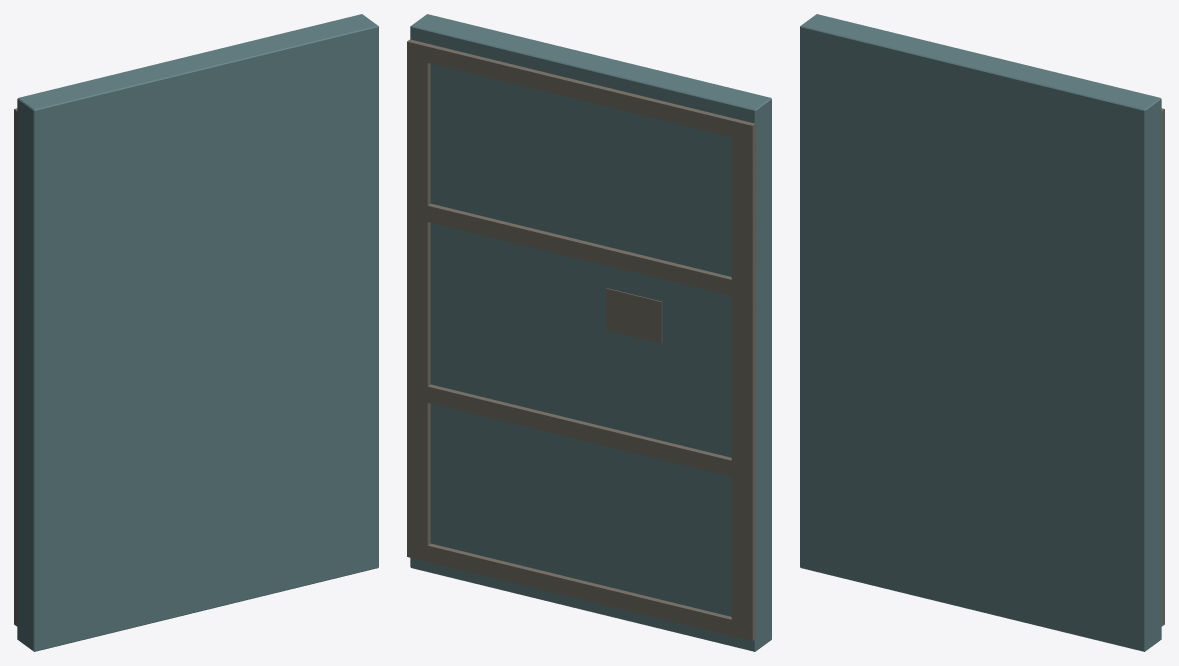
File: scrap_bunker_panel_2m.glb
3 views of the same model, side by side, from view 1: azimuth 30°, elevation 25°; view 2: azimuth 150°, elevation 25°; view 3: azimuth 330°, elevation 25° (orthographic).
Visible parts, largest first — view 1: scrap_bunker_panel_2m; view 2: scrap_bunker_panel_2m; view 3: scrap_bunker_panel_2m.
Part boxes in pixels (x1,y1,x2,y2): scrap_bunker_panel_2m: (14,14,378,651); scrap_bunker_panel_2m: (407,14,771,651); scrap_bunker_panel_2m: (800,14,1164,651).
Size of the model in its own units: 2 by 3 by 0.2.
